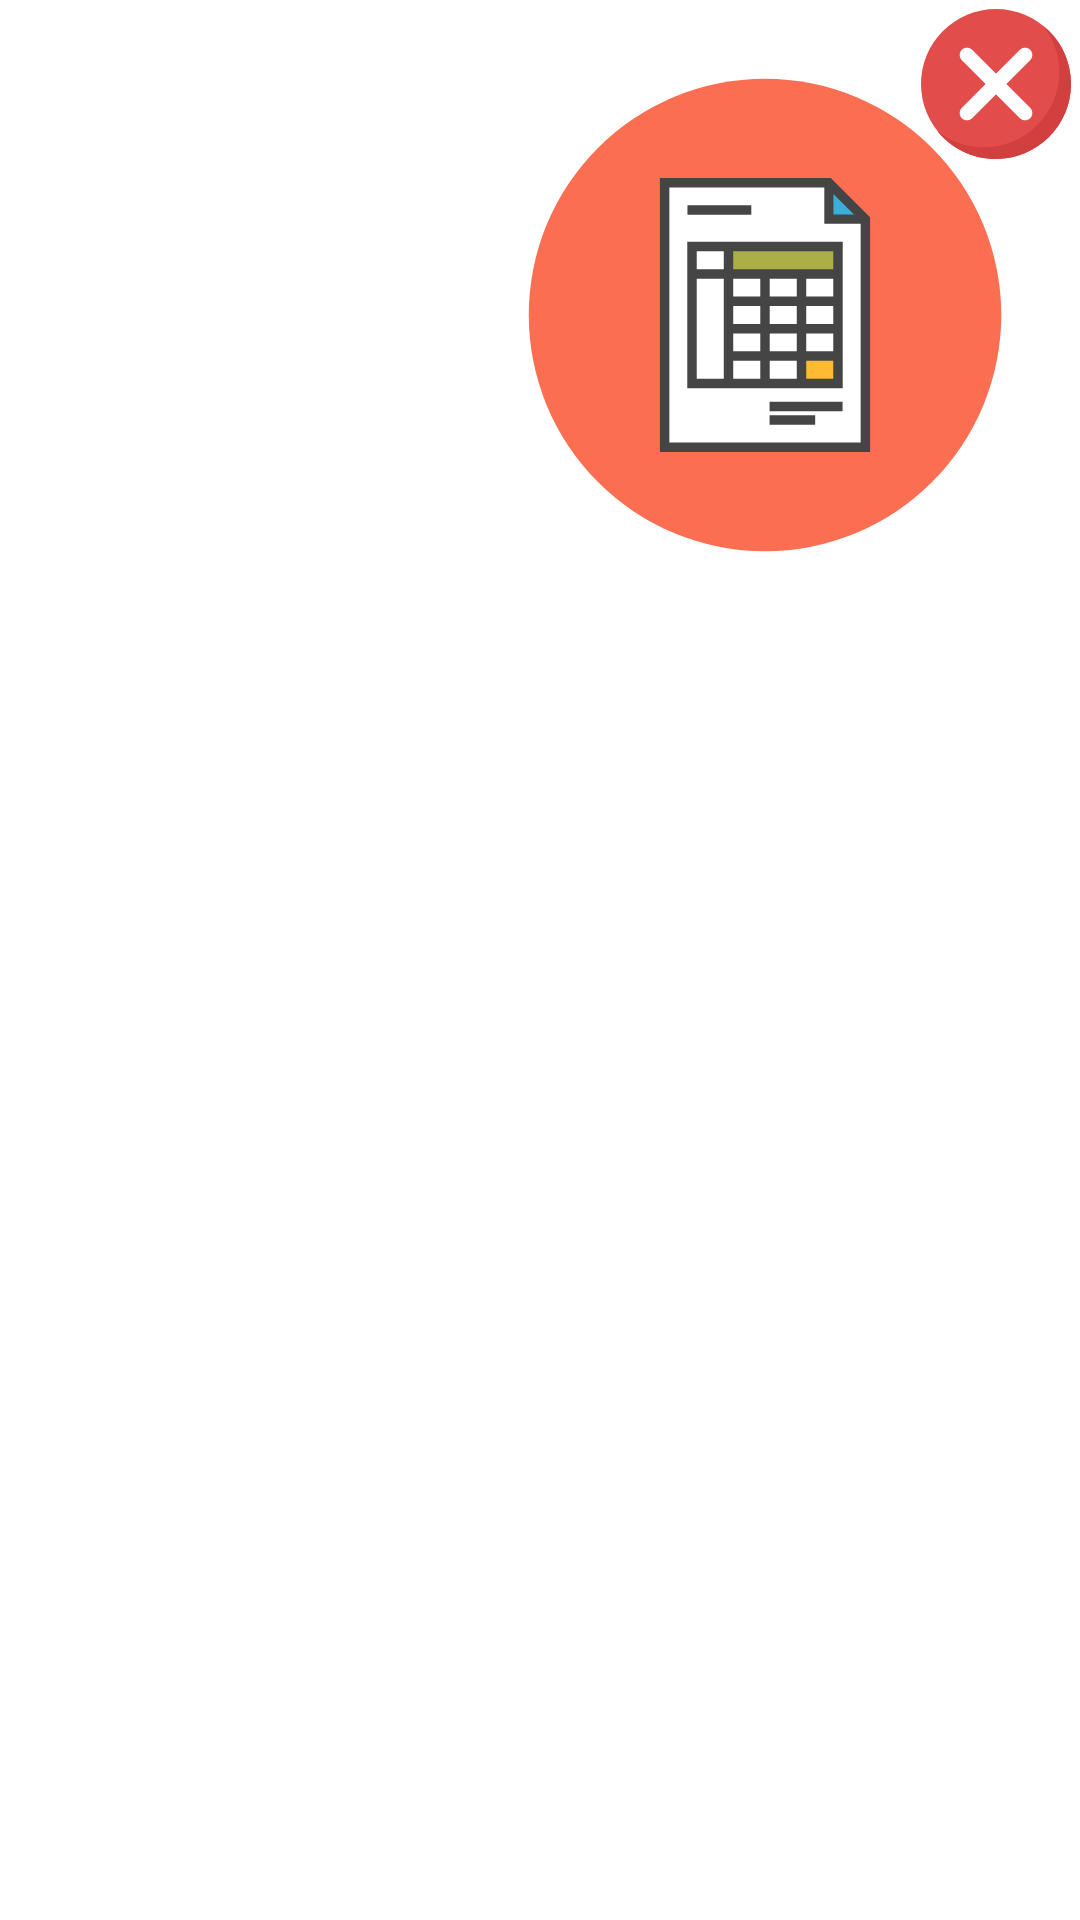

Where to tap for icons on this 1080 × 1920 app screen, as (x=x, y=y):
close: (x=996, y=84)
